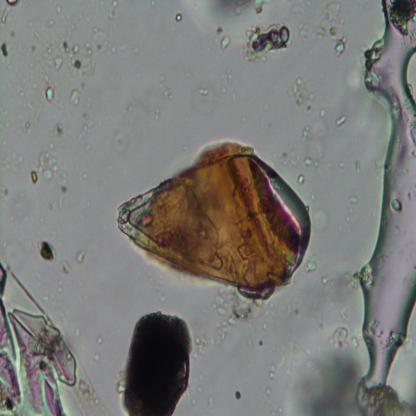Air bubble: (351, 1, 416, 411)
Background material: (106, 137, 310, 300), (0, 251, 107, 415), (276, 326, 408, 416), (117, 307, 198, 415), (202, 298, 259, 352), (286, 105, 330, 171), (300, 6, 350, 59), (45, 37, 98, 82), (246, 24, 292, 64), (203, 1, 268, 26), (11, 84, 38, 141), (321, 269, 359, 309), (72, 106, 101, 156), (31, 0, 79, 28), (214, 58, 241, 106), (29, 148, 61, 186), (112, 114, 138, 150), (289, 81, 315, 116), (34, 235, 60, 264), (92, 24, 117, 54), (263, 363, 277, 410), (0, 0, 21, 26), (41, 80, 59, 106), (92, 330, 106, 363), (158, 73, 173, 102), (216, 29, 233, 54), (68, 88, 82, 110), (75, 246, 91, 264), (316, 209, 328, 232), (105, 0, 119, 18), (53, 120, 64, 140), (0, 40, 9, 61), (295, 173, 307, 188), (198, 83, 209, 99), (336, 116, 348, 130), (354, 154, 362, 174), (174, 10, 184, 25), (350, 191, 357, 206), (235, 388, 242, 402)
